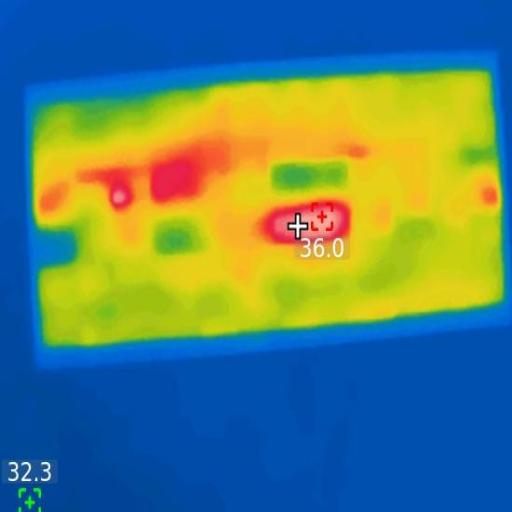hotspot: (260, 202, 356, 242), (144, 160, 205, 200), (105, 170, 131, 216)
